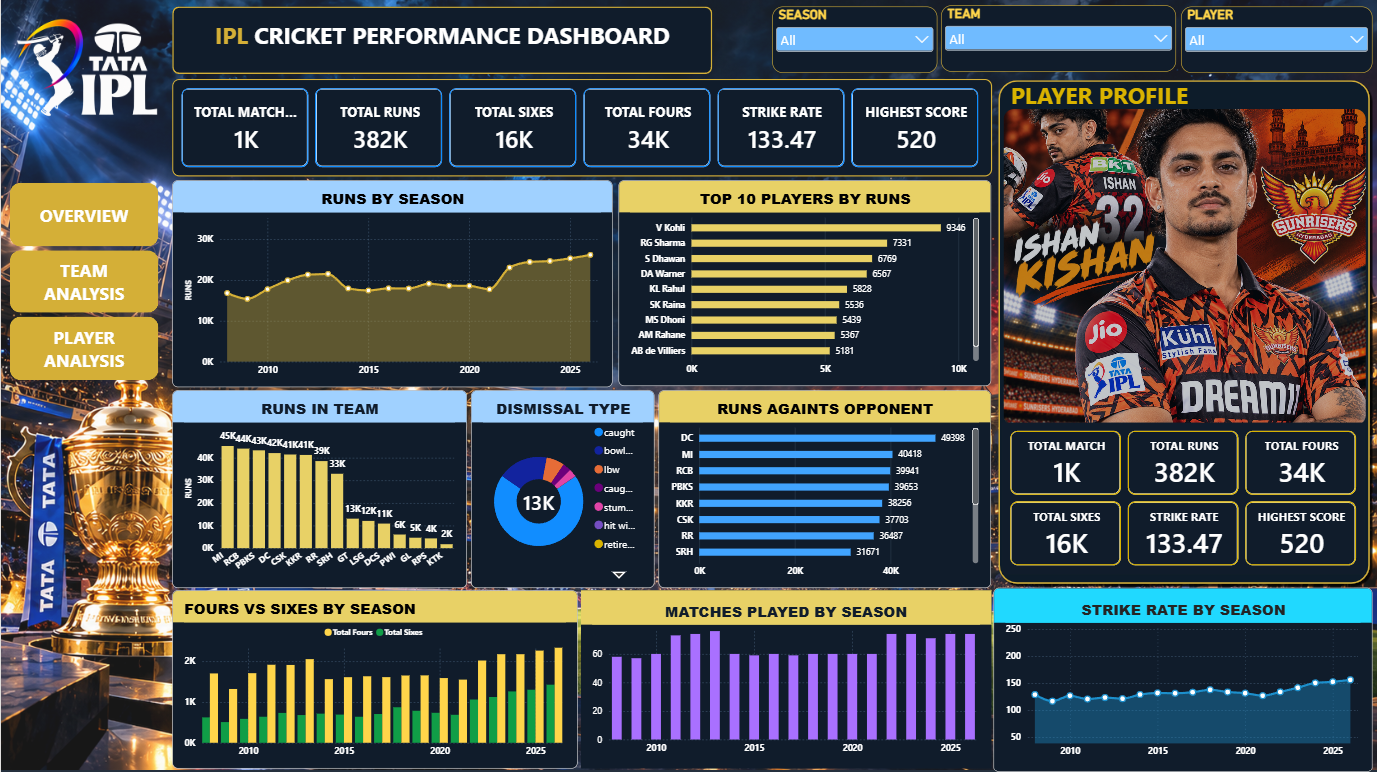

The page's visual inventory and layout, read from the dashboard file:
{"tool":"powerbi","page":{"name":"OVERVIEW","canvas":[1920,1080],"ordinal":0},"visuals":[{"type":"shape","box":[239,10.5,753.5,94.2],"z":0},{"type":"shape","box":[1386.2,108.6,528.4,713],"z":0,"group":"g1"},{"type":"cardVisual","fields":{"Data":["IPL.Total Matches","IPL.Total Runs","IPL.Total Sixes","IPL.Total Fours","IPL.Strike Rate","IPL.Highest Score"]},"box":[238.2,110.9,1143.6,136.4],"z":1000},{"type":"lineChart","title":"RUNS BY SEASON","fields":{"Category":["Calendar.Year"],"Y":["IPL.Total Runs"]},"box":[238.2,252.7,614.5,289.1],"z":2000},{"type":"slicer","fields":{"Values":["IPL.batting_team"]},"box":[1311.6,8.7,327.9,92.4],"z":3000},{"type":"slicer","fields":{"Values":["image.NAME"]},"box":[1646.5,10.5,266.9,92.4],"z":4000},{"type":"textbox","box":[252.9,10.5,725.7,94.1],"z":5000},{"type":"slicer","fields":{"Values":["Calendar.Year"]},"box":[1076.2,10.5,230.2,92.4],"z":6000},{"type":"clusteredBarChart","title":"TOP 10 PLAYERS BY RUNS","fields":{"Category":["Players.Player"],"Y":["IPL.Total Runs"]},"box":[861.8,252.7,520,287.3],"z":7000},{"type":"clusteredColumnChart","title":"RUNS IN TEAM","fields":{"Category":["IPL.Team Short"],"Y":["IPL.Total Runs"]},"box":[238.2,545.5,410.9,276.4],"z":8000},{"type":"donutChart","title":"DISMISSAL TYPE","fields":{"Category":["IPL.wicket_kind"],"Y":["IPL.Total Wickets"]},"box":[656.4,545.5,256.4,276.4],"z":9000},{"type":"clusteredBarChart","title":"RUNS AGAINTS OPPONENT","fields":{"Category":["IPL.Bowling Team Short"],"Y":["IPL.Total Runs"]},"box":[918.2,545.5,463.6,276.4],"z":10000},{"type":"clusteredColumnChart","title":"FOURS VS SIXES BY SEASON","fields":{"Category":["Calendar.Year"],"Y":["IPL.Total Fours","IPL.Total Sixes"]},"box":[238.2,825.5,565.5,249.1],"z":11000},{"type":"clusteredColumnChart","title":"MATCHES PLAYED BY SEASON","fields":{"Category":["Calendar.Year"],"Y":["IPL.Matches by Season"]},"box":[809.1,825.5,572.7,249.1],"z":12000},{"type":"lineChart","title":"STRIKE RATE BY SEASON","fields":{"Category":["Calendar.Year"],"Y":["IPL.Strike Rate"]},"box":[1385.5,821.8,529.1,258.2],"z":13000},{"type":"image","box":[5.5,10.9,223.6,167.3],"z":14000},{"type":"group","id":"g1","title":"Group 1","box":[1386.2,108.6,528.4,713],"z":15000},{"type":"textbox","box":[1398.2,110.9,320,67.3],"z":15000,"group":"g1"},{"type":"image","box":[1398.2,154.6,505.5,441.8],"z":16000,"group":"g1"},{"type":"actionButton","box":[12.2,350.6,207.6,87.2],"z":16000},{"type":"actionButton","box":[12.2,443,207.6,89],"z":17000},{"type":"cardVisual","fields":{"Data":["IPL.Total Matches","IPL.Total Runs","IPL.Total Fours","IPL.Total Sixes","IPL.Strike Rate","IPL.Highest Score"]},"box":[1396.4,590.9,505.5,210.9],"z":17000,"group":"g1"},{"type":"actionButton","box":[12.2,256.4,207.6,89],"z":18000}]}

Visuals, with their boxes in screenshot pixels (x1, y1, x2, y2), scaled from the page's 1920x1080 canvas onto the 1377x772 screenshot:
shape: region(171, 8, 712, 75)
shape: region(994, 78, 1373, 587)
cardVisual - IPL.Total Matches x IPL.Total Runs: region(171, 79, 991, 177)
"RUNS BY SEASON" lineChart: region(171, 181, 612, 387)
slicer - IPL.batting_team: region(941, 6, 1176, 72)
slicer - image.NAME: region(1181, 8, 1372, 74)
textbox: region(181, 8, 702, 75)
slicer - Calendar.Year: region(772, 8, 937, 74)
"TOP 10 PLAYERS BY RUNS" clusteredBarChart: region(618, 181, 991, 386)
"RUNS IN TEAM" clusteredColumnChart: region(171, 390, 466, 588)
"DISMISSAL TYPE" donutChart: region(471, 390, 655, 588)
"RUNS AGAINTS OPPONENT" clusteredBarChart: region(659, 390, 991, 588)
"FOURS VS SIXES BY SEASON" clusteredColumnChart: region(171, 590, 576, 768)
"MATCHES PLAYED BY SEASON" clusteredColumnChart: region(580, 590, 991, 768)
"STRIKE RATE BY SEASON" lineChart: region(994, 587, 1373, 771)
image: region(4, 8, 164, 127)
"Group 1" group: region(994, 78, 1373, 587)
textbox: region(1003, 79, 1232, 127)
image: region(1003, 111, 1365, 426)
actionButton: region(9, 251, 158, 313)
actionButton: region(9, 317, 158, 380)
cardVisual - IPL.Total Matches x IPL.Total Runs: region(1001, 422, 1364, 573)
actionButton: region(9, 183, 158, 247)
